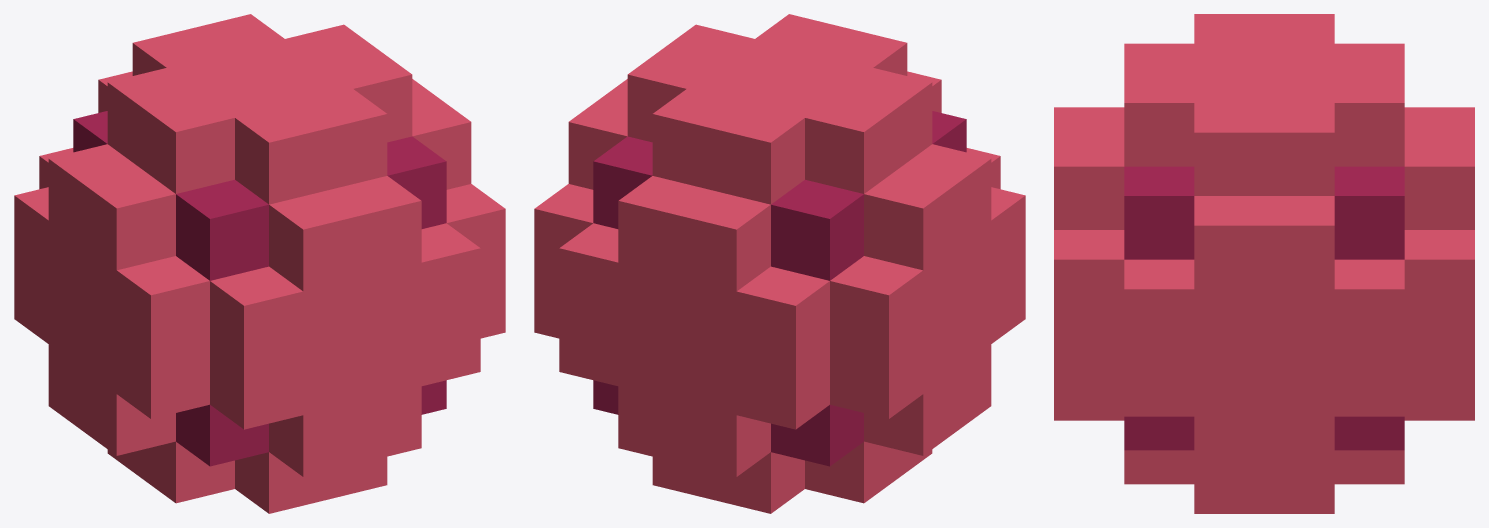
Rendered from MagicOrb.obj.
3 views of the same model, side by side, from view 1: azimuth 30°, elevation 25°; view 2: azimuth 150°, elevation 25°; view 3: azimuth 270°, elevation 25° (orthographic). The views are drawn at different scales.
Bounding box in the file's own units: 0.6 × 0.6 × 0.6.
Materials: 1 (1 with a texture image).
